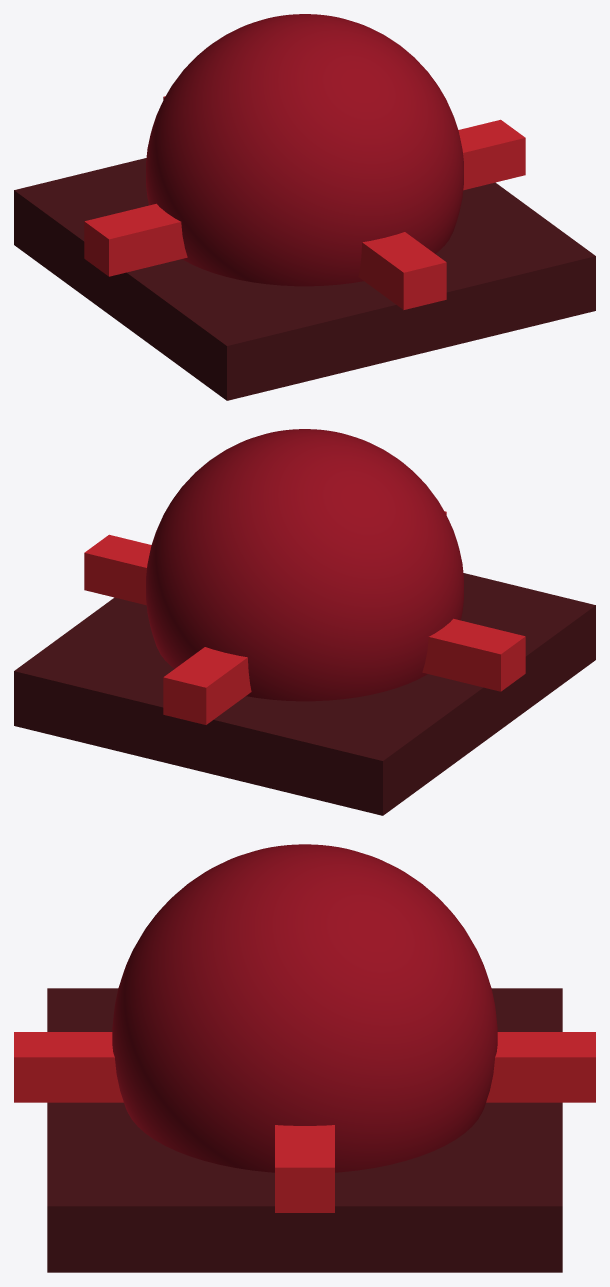
File: nest.glb
3 views of the same model, one above another, from view 1: azimuth 30°, elevation 25°; view 2: azimuth 150°, elevation 25°; view 3: azimuth 270°, elevation 25° (orthographic). The views are drawn at different scales.
Parts seen in each view (by area): view 1: NestCore, NestBase, NestSpineX, NestSpineZ; view 2: NestCore, NestBase, NestSpineX, NestSpineZ; view 3: NestCore, NestBase, NestSpineZ, NestSpineX.
Boxes of the visible parts, x1=… form: NestCore: x1=146, y1=14, x2=463, y2=286; NestBase: x1=14, y1=158, x2=595, y2=400; NestSpineX: x1=84, y1=119, x2=525, y2=276; NestSpineZ: x1=163, y1=96, x2=446, y2=309; NestCore: x1=146, y1=429, x2=463, y2=701; NestBase: x1=14, y1=573, x2=595, y2=815; NestSpineX: x1=84, y1=534, x2=525, y2=691; NestSpineZ: x1=163, y1=511, x2=446, y2=724; NestCore: x1=112, y1=844, x2=497, y2=1172; NestBase: x1=47, y1=988, x2=562, y2=1272; NestSpineZ: x1=14, y1=1032, x2=595, y2=1102; NestSpineX: x1=275, y1=1125, x2=334, y2=1212.
Bounding box in the file's own units: 1.75 × 1.16 × 1.75.
Materials: 4 (4 with a texture image).
